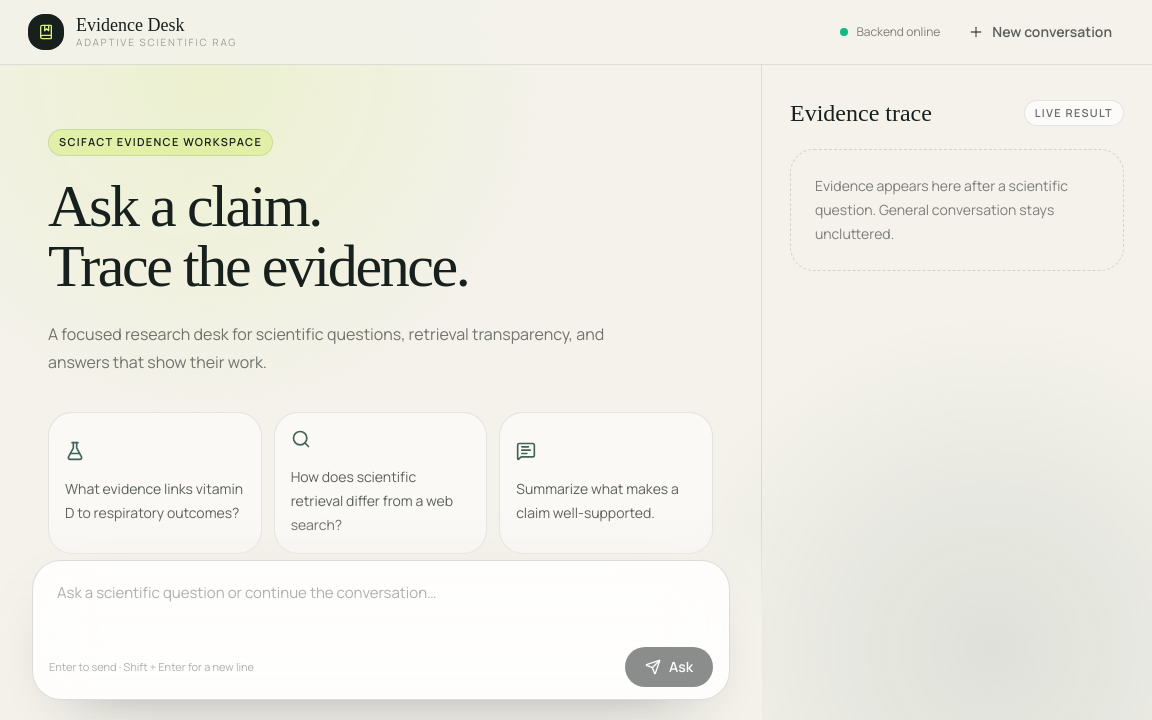
Test: research workspace › shows conversation expiry and requires an explicit new conversation
Type "Follow up" into the text box labelled "Ask a scientific question".
click(381, 605); type("Follow up")  # box [41,569,721,641]
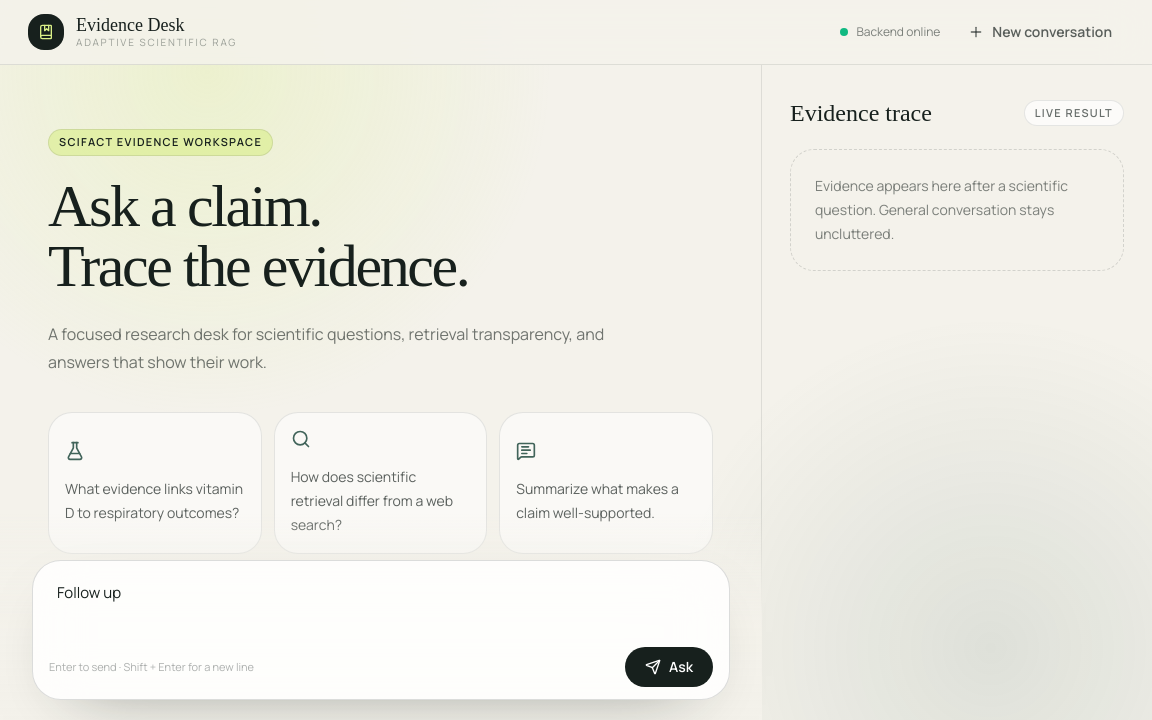
Click the button "Ask".
click(669, 667)  # box [625,647,713,687]
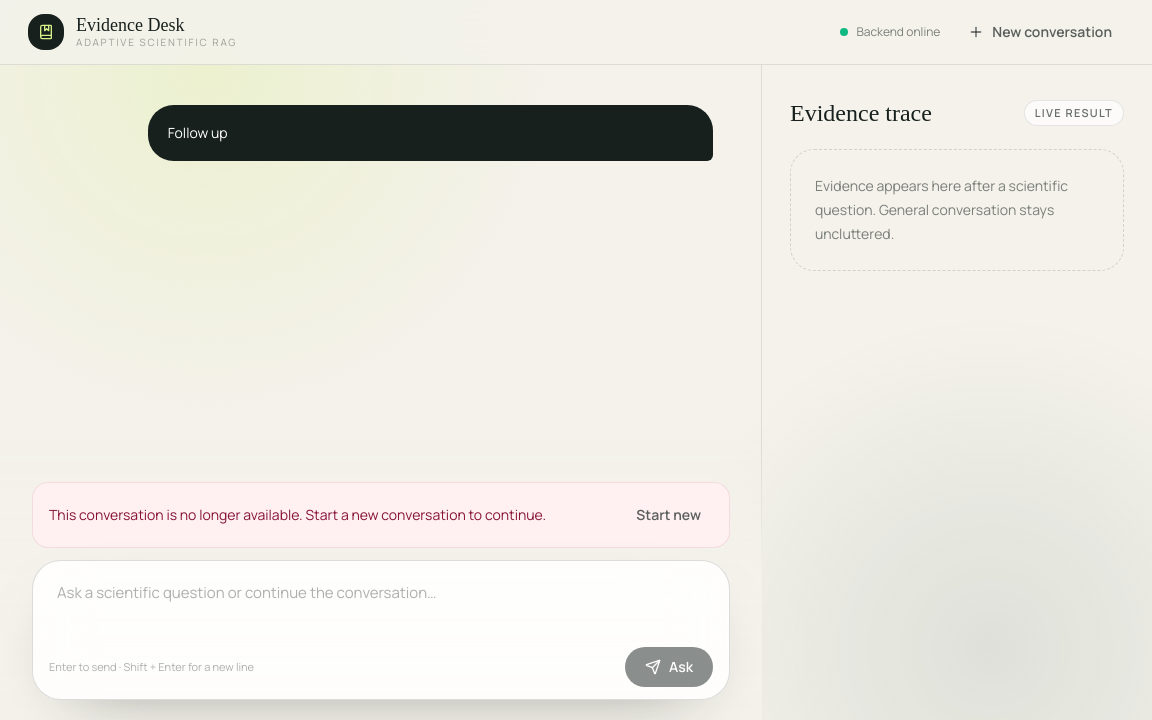
Result: the 2nd message shows "no longer available" at [49,505,546,524]
Result: the button "Start new" is shown at [624,495,713,535]
